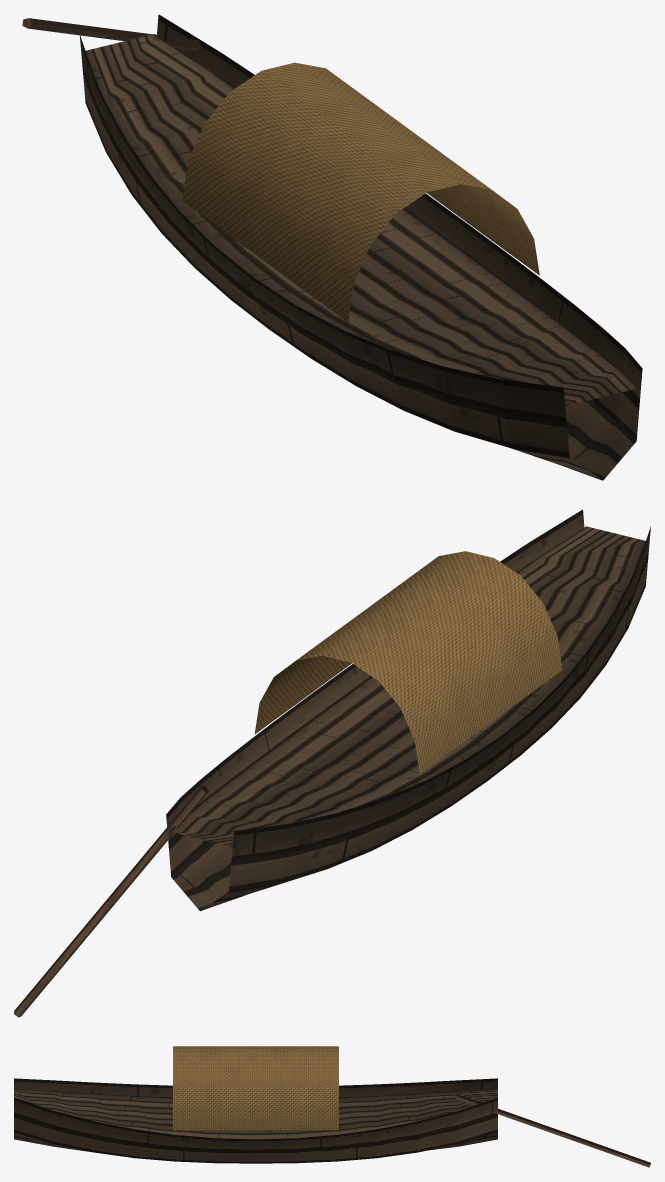
The model's file is sampan.glb.
3 renders of one model, top to bottom at view 1: azimuth 30°, elevation 25°; view 2: azimuth 150°, elevation 25°; view 3: azimuth 270°, elevation 25°, orthographic. The views are drawn at different scales.
Parts seen in each view (by area): view 1: SampanHull, SampanCanopy, Oar; view 2: SampanHull, SampanCanopy, Oar; view 3: SampanHull, SampanCanopy, Oar.
Boxes of the visible parts, <box> form: SampanHull: <box>79,14,642,480</box>; SampanCanopy: <box>182,62,539,322</box>; Oar: <box>22,18,201,50</box>; SampanHull: <box>166,509,650,911</box>; SampanCanopy: <box>254,551,562,774</box>; Oar: <box>14,785,208,1017</box>; SampanHull: <box>14,1078,497,1163</box>; SampanCanopy: <box>173,1046,338,1130</box>; Oar: <box>455,1094,650,1167</box>.
Size of what is drawn, in the model's own units: 1.8 by 1.69 by 9.21.
3 materials, 3 textured.
